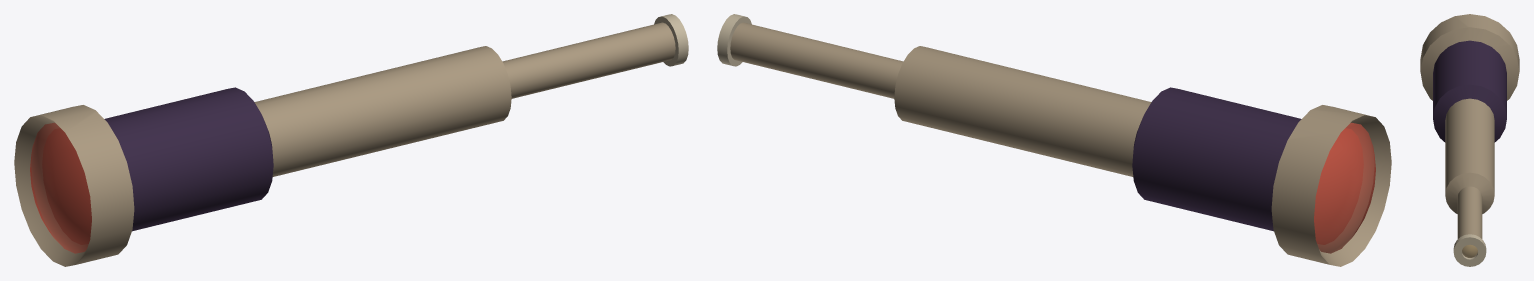
Rendered from Spyglass.fbx.
3 views of the same model, side by side, from view 1: azimuth 30°, elevation 25°; view 2: azimuth 150°, elevation 25°; view 3: azimuth 270°, elevation 25° (orthographic). The views are drawn at different scales.
Visible parts, largest first — view 1: polySurface1; view 2: polySurface1; view 3: polySurface1.
Part boxes in pixels (bbox=[...]): polySurface1: bbox=[14, 14, 688, 266]; polySurface1: bbox=[717, 14, 1391, 266]; polySurface1: bbox=[1420, 14, 1519, 266].
Bounding box in the file's own units: 22.21 × 4.75 × 4.75.
